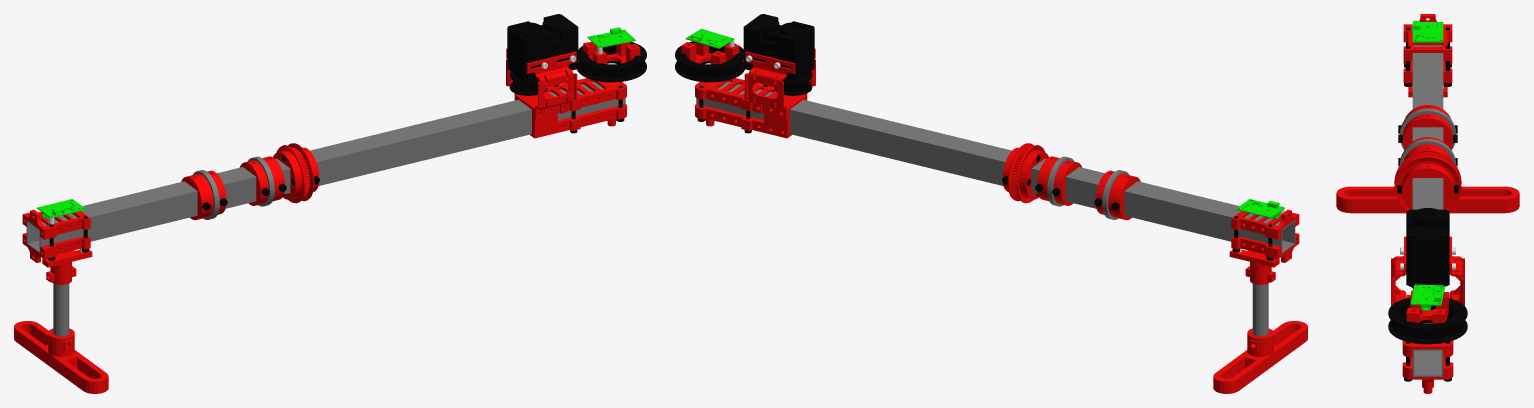
The picture shows the model from 3 angles, left to right: view 1: azimuth 30°, elevation 25°; view 2: azimuth 150°, elevation 25°; view 3: azimuth 270°, elevation 25°; orthographic projection. The views are drawn at different scales.
Parts seen in each view (by area): view 1: link_1_base - link_n_base-1 rolling_bone_square_pipe-1, link_1_base - joint_servo_with_holder-1 x-430_idle-1 x-430_i, link_1_base - leg_for_pipe_holder-1 leg-1, link_1_base - joint_servo_with_holder-1 joint_servo_holder_w, link_1_base - pipe_holder_wth_joint-1 pipe_holder_down_with_, link_1_base - link_n_base-1 pipe_holder-1 pipe_holder_down-1, link_1_base - joint_pulley_neuron-1 joint_shaft_pully_HTPB5, link_1_base - leg_for_pipe_holder-1 leg_holder_for_pipe_hold, link_1_base - pipe_holder_wth_joint-1 pipe_holder_top_with_j, link_1_base - link_n_base-1 gimbal_shaft_pulley-1 gimbal_sha, link_1_base - joint_servo_mount_extender-1, link_1_base - leg_for_pipe_holder-1 leg_pipe-1 (+8 smaller); view 2: link_1_base - link_n_base-1 rolling_bone_square_pipe-1, link_1_base - joint_servo_with_holder-1 x-430_idle-1 x-430_i, link_1_base - leg_for_pipe_holder-1 leg-1, link_1_base - joint_servo_with_holder-1 joint_servo_holder_, link_1_base - pipe_holder_wth_joint-1 pipe_holder_down_with_, link_1_base - link_n_base-1 pipe_holder-1 pipe_holder_down-1, link_1_base - leg_for_pipe_holder-1 leg_holder_for_pipe_hold, link_1_base - joint_pulley_neuron-1 joint_shaft_pully_HTPB5, link_1_base - pipe_holder_wth_joint-1 pipe_holder_top_with_j, link_1_base - link_n_base-1 gimbal_shaft_pulley-1 gimbal_sha, link_1_base - joint_servo_mount_extender-1, link_1_base - leg_for_pipe_holder-1 leg_pipe-1 (+8 smaller); view 3: link_1_base - link_n_base-1 rolling_bone_square_pipe-1, link_1_base - leg_for_pipe_holder-1 leg-1, link_1_base - joint_servo_with_holder-1 x-430_idle-1 x-430_i, link_1_base - link_n_base-1 gimbal_shaft_pulley-1 gimbal_sh, link_1_base - joint_pulley_neuron-1 joint_shaft_pully_HTPB5, link_1_base - joint_pulley_neuron-1 joint_shaft_pully_HTPB50, link_1_base - link_n_base-1 pipe_holder-1 pipe_holder_down-1, link_1_base - link_n_base-1 gimbal_shaft_rotator-1 square20_, link_1_base - joint_pulley_neuron-1 neuron_holder_on_pulley_, link_1_base - joint_pulley_neuron-1 neuron-1, link_1_base - neuron-1, link_1_base - joint_servo_with_holder-1 joint_servo_holder_ (+8 smaller).
Part boxes in pixels (<box>): link_1_base - link_n_base-1 rolling_bone_square_pipe-1: <box>26,82,625,253</box>; link_1_base - joint_servo_with_holder-1 x-430_idle-1 x-430_i: <box>507,14,578,81</box>; link_1_base - leg_for_pipe_holder-1 leg-1: <box>14,321,108,393</box>; link_1_base - joint_servo_with_holder-1 joint_servo_holder_w: <box>526,51,577,119</box>; link_1_base - pipe_holder_wth_joint-1 pipe_holder_down_with_: <box>544,78,626,112</box>; link_1_base - link_n_base-1 pipe_holder-1 pipe_holder_down-1: <box>22,209,90,239</box>; link_1_base - joint_pulley_neuron-1 joint_shaft_pully_HTPB5: <box>577,46,646,82</box>; link_1_base - leg_for_pipe_holder-1 leg_holder_for_pipe_hold: <box>42,249,92,284</box>; link_1_base - pipe_holder_wth_joint-1 pipe_holder_top_with_j: <box>558,104,626,132</box>; link_1_base - link_n_base-1 gimbal_shaft_pulley-1 gimbal_sha: <box>273,145,305,203</box>; link_1_base - joint_servo_mount_extender-1: <box>515,93,557,138</box>; link_1_base - leg_for_pipe_holder-1 leg_pipe-1: <box>53,283,69,336</box>; link_1_base - link_n_base-1 rolling_bone_square_pipe-1: <box>696,82,1295,253</box>; link_1_base - joint_servo_with_holder-1 x-430_idle-1 x-430_i: <box>743,14,814,81</box>; link_1_base - leg_for_pipe_holder-1 leg-1: <box>1213,321,1307,393</box>; link_1_base - joint_servo_with_holder-1 joint_servo_holder_: <box>744,51,795,119</box>; link_1_base - pipe_holder_wth_joint-1 pipe_holder_down_with_: <box>695,78,777,112</box>; link_1_base - link_n_base-1 pipe_holder-1 pipe_holder_down-1: <box>1231,209,1299,239</box>; link_1_base - leg_for_pipe_holder-1 leg_holder_for_pipe_hold: <box>1229,249,1279,284</box>; link_1_base - joint_pulley_neuron-1 joint_shaft_pully_HTPB5: <box>675,46,744,82</box>; link_1_base - pipe_holder_wth_joint-1 pipe_holder_top_with_j: <box>695,104,763,132</box>; link_1_base - link_n_base-1 gimbal_shaft_pulley-1 gimbal_sha: <box>1016,145,1048,203</box>; link_1_base - joint_servo_mount_extender-1: <box>764,93,806,138</box>; link_1_base - leg_for_pipe_holder-1 leg_pipe-1: <box>1252,283,1268,336</box>; link_1_base - link_n_base-1 rolling_bone_square_pipe-1: <box>1412,45,1443,376</box>; link_1_base - leg_for_pipe_holder-1 leg-1: <box>1336,186,1519,213</box>; link_1_base - joint_servo_with_holder-1 x-430_idle-1 x-430_i: <box>1406,208,1449,286</box>; link_1_base - link_n_base-1 gimbal_shaft_pulley-1 gimbal_sh: <box>1394,156,1461,210</box>; link_1_base - joint_pulley_neuron-1 joint_shaft_pully_HTPB5: <box>1388,305,1467,344</box>; link_1_base - joint_pulley_neuron-1 joint_shaft_pully_HTPB50: <box>1388,297,1467,330</box>; link_1_base - link_n_base-1 pipe_holder-1 pipe_holder_down-1: <box>1403,14,1452,60</box>; link_1_base - link_n_base-1 gimbal_shaft_rotator-1 square20_: <box>1402,114,1453,149</box>; link_1_base - joint_pulley_neuron-1 neuron_holder_on_pulley_: <box>1406,290,1449,323</box>; link_1_base - joint_pulley_neuron-1 neuron-1: <box>1410,284,1445,310</box>; link_1_base - neuron-1: <box>1412,20,1443,42</box>; link_1_base - joint_servo_with_holder-1 joint_servo_holder_: <box>1449,236,1464,305</box>.
Bounding box in the file's own units: 520 × 120 × 181.
